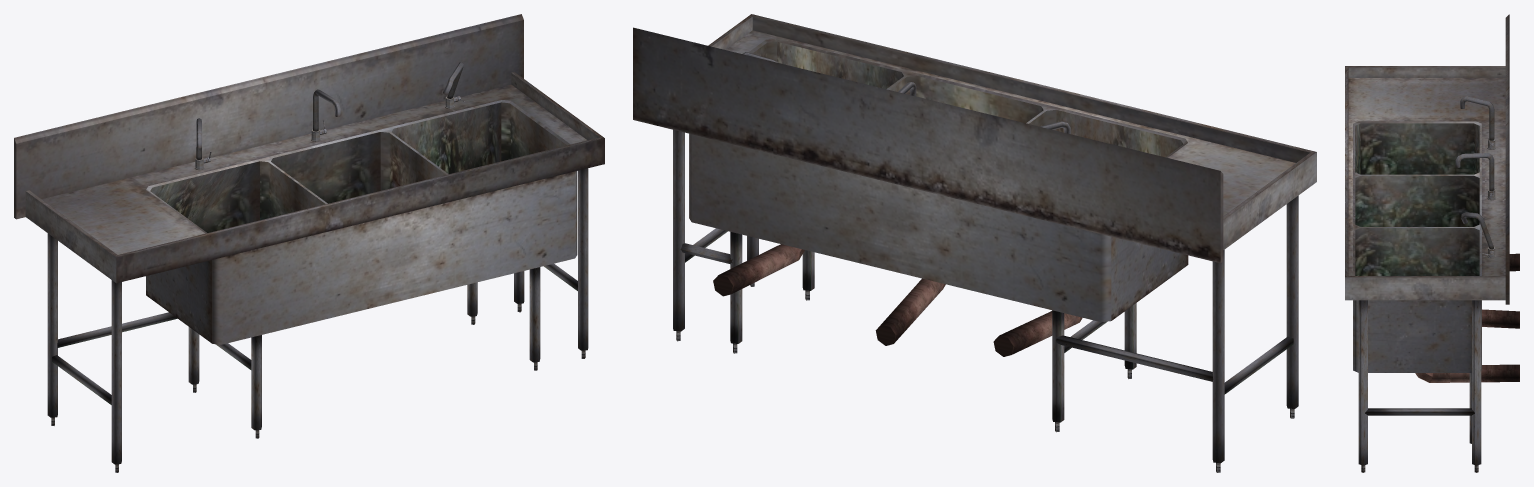
Rendered from kitchen_sink.dae.
The picture shows the model from 3 angles, left to right: view 1: azimuth 30°, elevation 25°; view 2: azimuth 150°, elevation 25°; view 3: azimuth 270°, elevation 25°; orthographic projection. The views are drawn at different scales.
Parts seen in each view (by area): view 1: sink; view 2: sink; view 3: sink.
Boxes of the visible parts, box(x1,y1,x2,y2) form: sink: box(14, 14, 604, 472); sink: box(633, 14, 1316, 472); sink: box(1345, 14, 1519, 472).
Size of what is drawn, in the model's own units: 2.6 by 1.36 by 0.8733.
